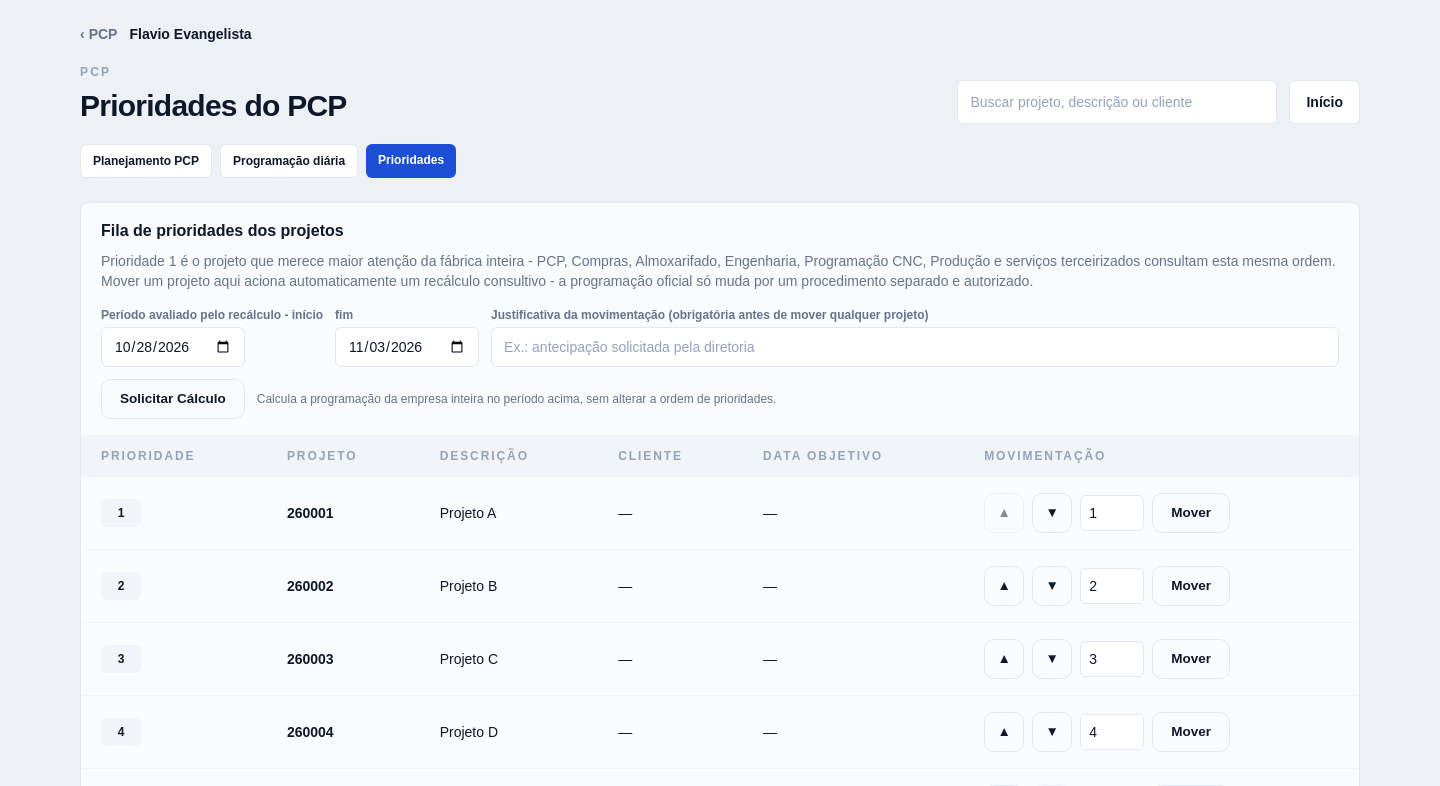
Scenario: PrioridadesPcpPage - componente › falha de reordenação: prioridade não mudou, mensagem de erro exibida
Type "justificativa de teste" into the field labelled "Justificativa da movimentação" at (915,347), box [491, 327, 1339, 367]
(page scrolled)
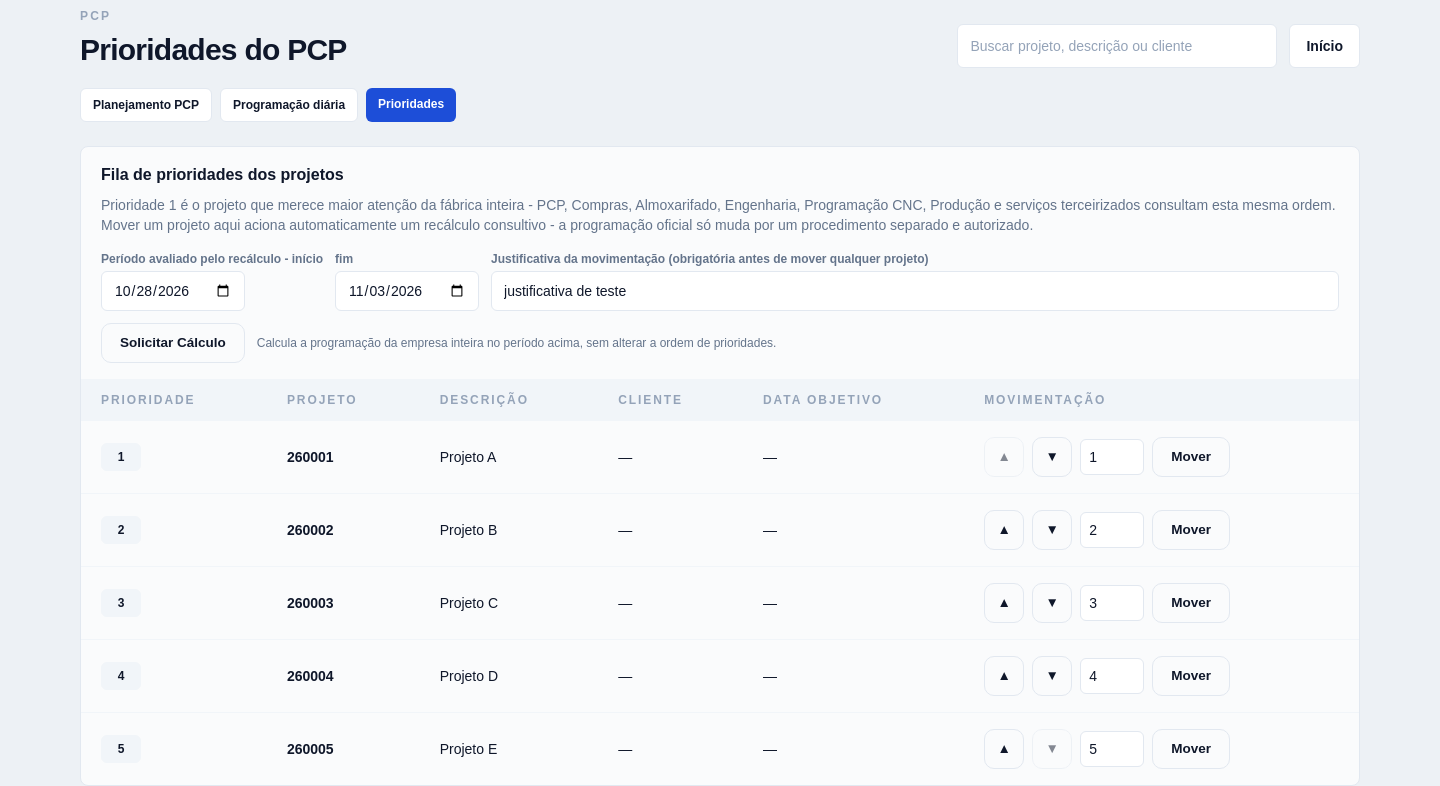
Click the button named "Subir prioridade do projeto 260005" at (1004,749), box [984, 729, 1024, 769]
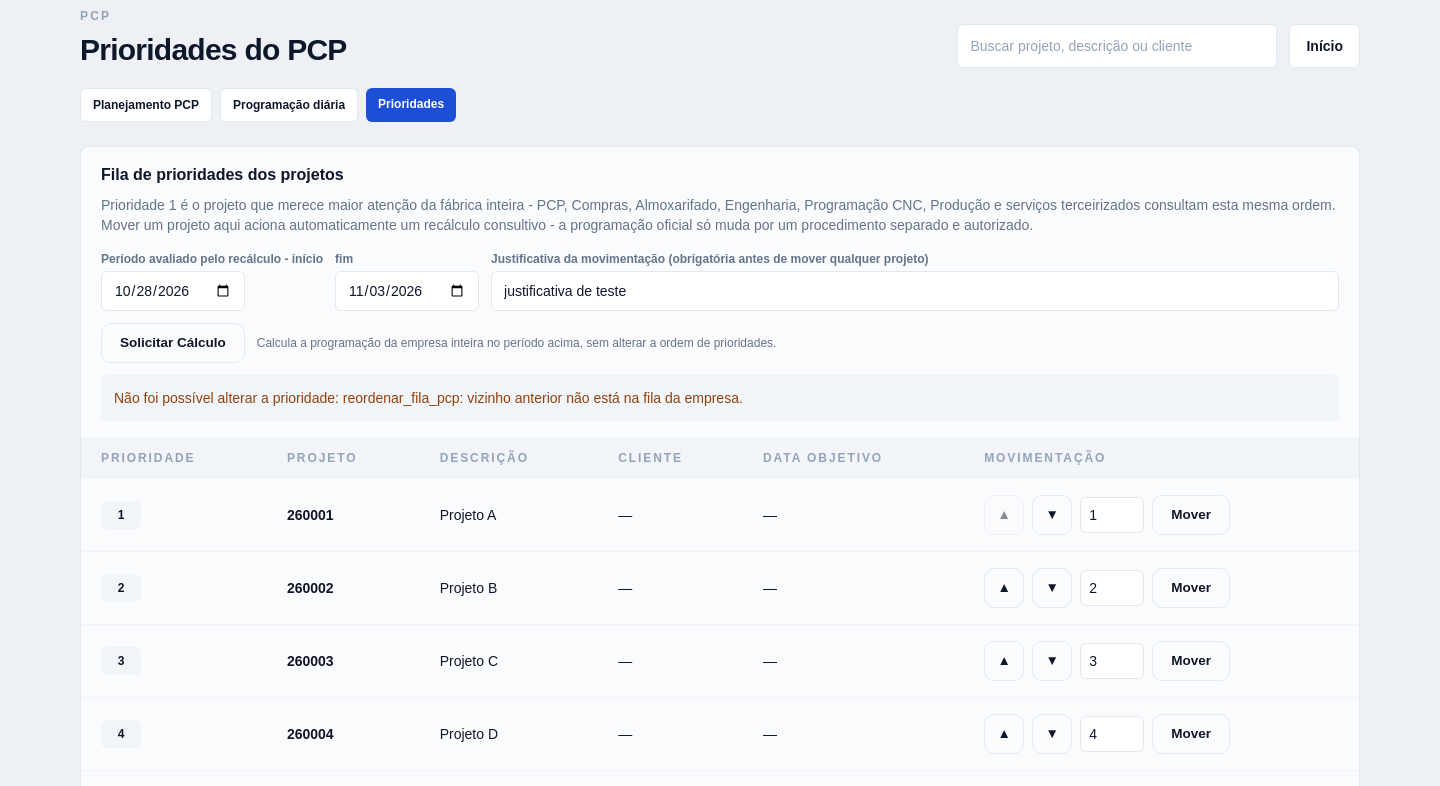
Now the text "Não foi possível alterar a prioridade" is shown, box [114, 390, 743, 406]
